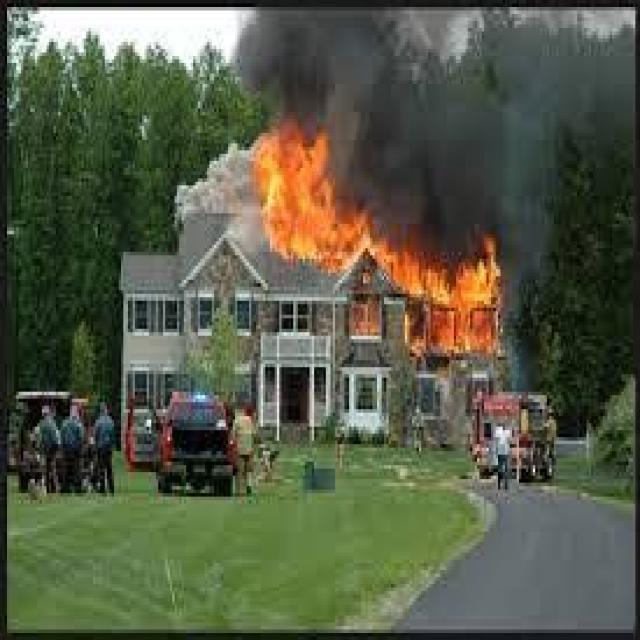Fire: (257, 120, 505, 355)
Smoke: (234, 7, 636, 118)
